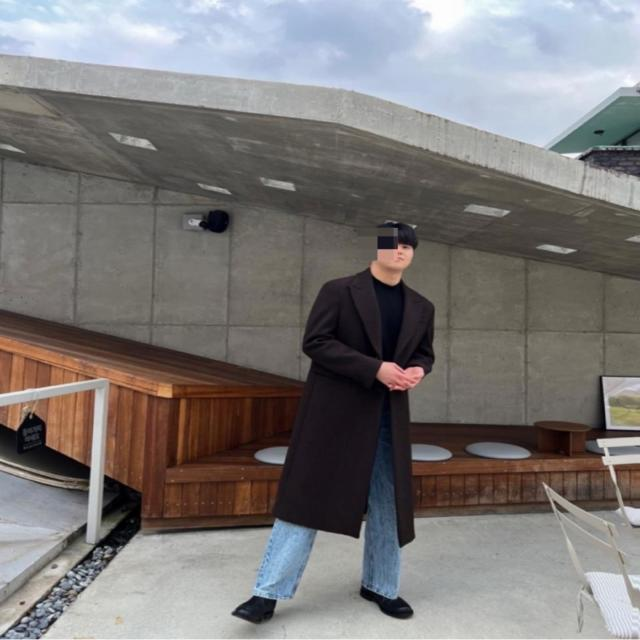coat: (276, 271, 437, 545)
denimpants: (251, 408, 397, 599)
